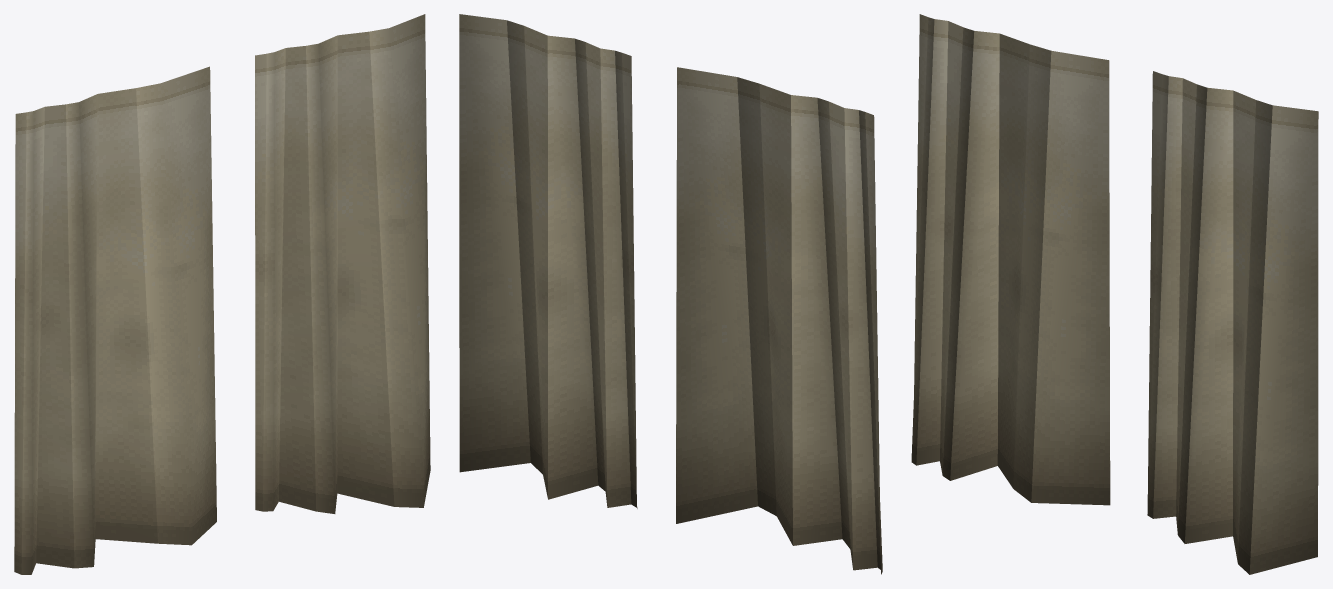
The model's file is prop_curtain-closed-3.glb.
The picture shows the model from 3 angles, left to right: view 1: azimuth 30°, elevation 25°; view 2: azimuth 150°, elevation 25°; view 3: azimuth 330°, elevation 25°; orthographic projection. The views are drawn at different scales.
Parts seen in each view (by area): view 1: prop_curtain-closed-3; view 2: prop_curtain-closed-3; view 3: prop_curtain-closed-3.
Part boxes in pixels (bbox=[...]): prop_curtain-closed-3: bbox=[14, 14, 430, 574]; prop_curtain-closed-3: bbox=[459, 14, 882, 574]; prop_curtain-closed-3: bbox=[911, 14, 1318, 574].
Size of the model in its own units: 1.74 by 1.84 by 0.251.
Materials: 1 (1 with a texture image).
